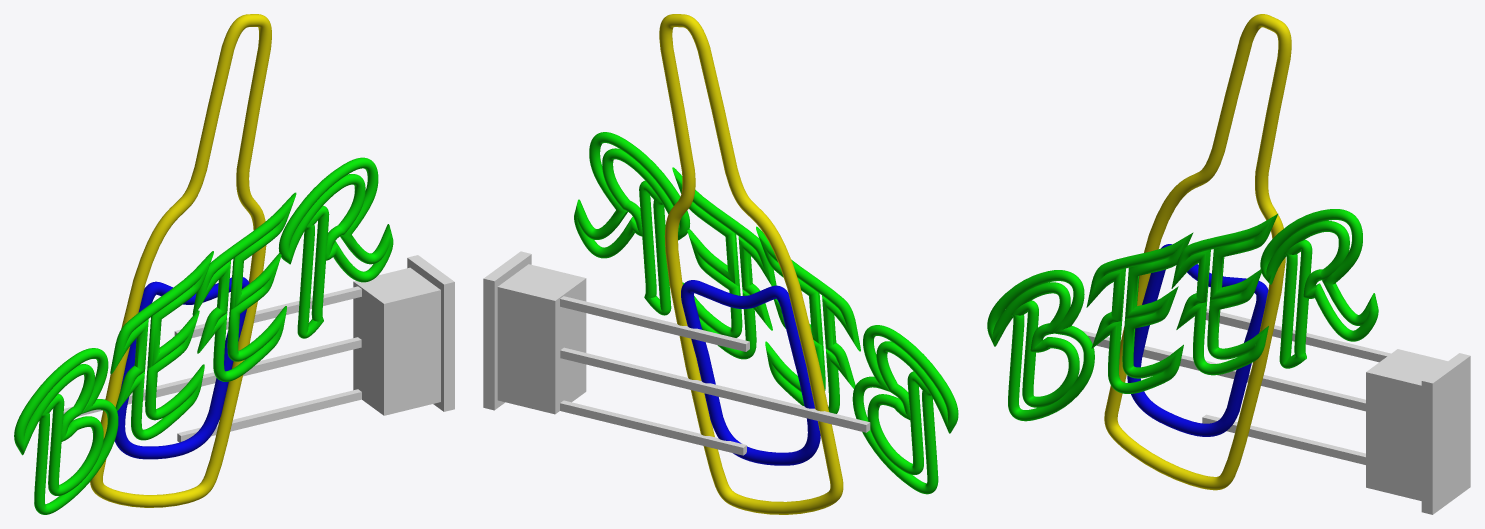
File: Beer_Neon_Sign.fbx
3 views of the same model, side by side, from view 1: azimuth 30°, elevation 25°; view 2: azimuth 150°, elevation 25°; view 3: azimuth 330°, elevation 25° (orthographic). The views are drawn at different scales.
Parts seen in each view (by area): view 1: Sweep_NURBS, Base, Sweep_NURBS_2, Sweep_NURBS_1; view 2: Sweep_NURBS, Base, Sweep_NURBS_2, Sweep_NURBS_1; view 3: Sweep_NURBS, Base, Sweep_NURBS_2, Sweep_NURBS_1.
Boxes of the visible parts, x1,y1,x2,y2 form: Sweep_NURBS: (14, 157, 393, 514); Base: (63, 255, 454, 442); Sweep_NURBS_2: (90, 14, 271, 507); Sweep_NURBS_1: (114, 277, 249, 459); Sweep_NURBS: (574, 132, 958, 494); Base: (483, 251, 870, 455); Sweep_NURBS_2: (659, 14, 843, 514); Sweep_NURBS_1: (681, 280, 820, 465); Sweep_NURBS: (987, 209, 1378, 421); Base: (1082, 308, 1470, 514); Sweep_NURBS_2: (1104, 14, 1291, 490); Sweep_NURBS_1: (1127, 244, 1268, 436).
Size of the model in its own units: 3467 by 3600 by 507.
